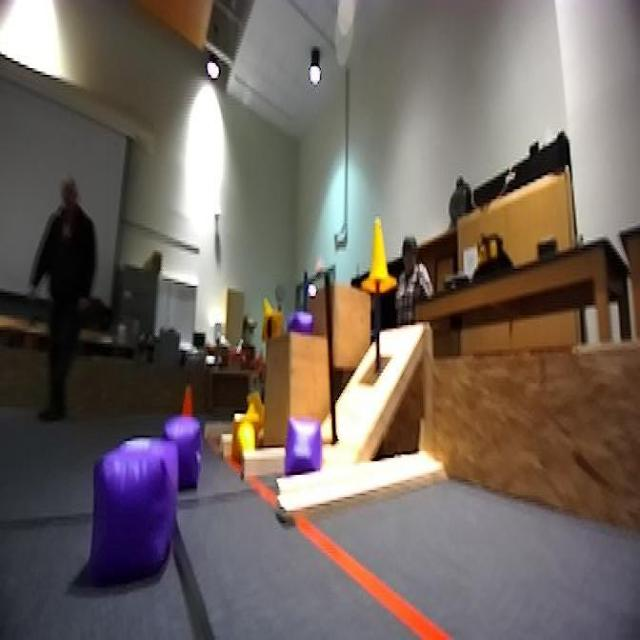frc_cone: (363, 221, 390, 288), (232, 414, 260, 464), (259, 296, 284, 344)
frc_cube: (90, 441, 176, 584), (162, 415, 207, 494), (281, 416, 323, 472), (287, 311, 316, 344)
